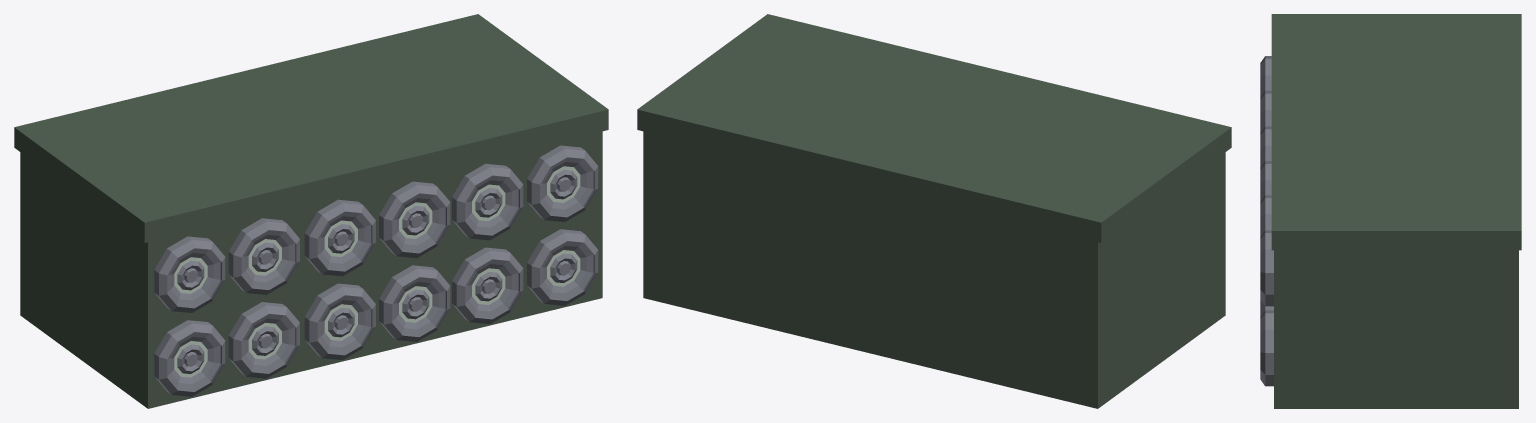
File: HouseBlock1.fbx
3 views of the same model, side by side, from view 1: azimuth 30°, elevation 25°; view 2: azimuth 150°, elevation 25°; view 3: azimuth 270°, elevation 25° (orthographic). The views are drawn at different scales.
Visible parts, largest first — view 1: Cube.004; view 2: Cube.004; view 3: Cube.004.
Part boxes in pixels (x1,y1,x2,y2): Cube.004: (14,14,608,408); Cube.004: (637,14,1231,408); Cube.004: (1260,14,1521,408).
Bounding box in the file's own units: 4076 × 1581 × 2074.
